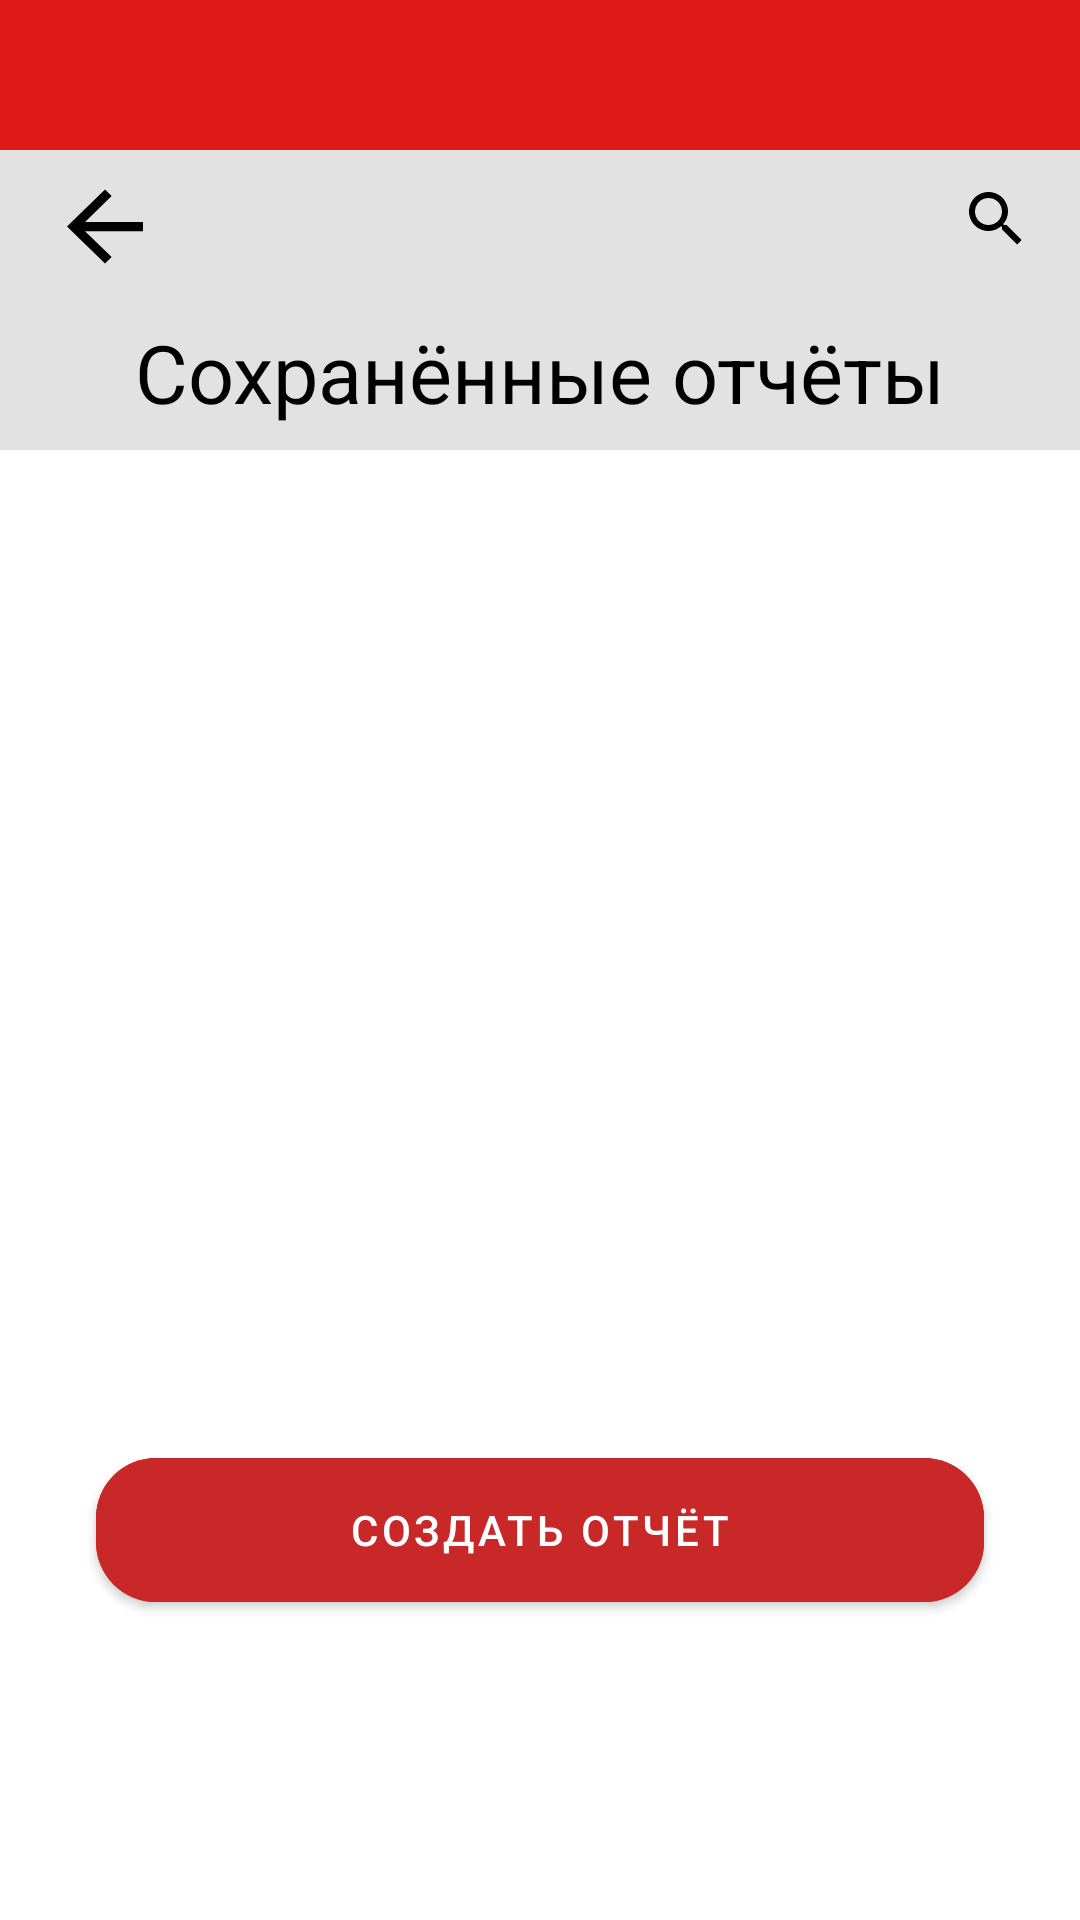

Named icons in this screenshot (1080px×1920px) and their bounding boxes, Rect(x1, y1, x2, y2):
back to menu: Rect(67, 189, 143, 264)
